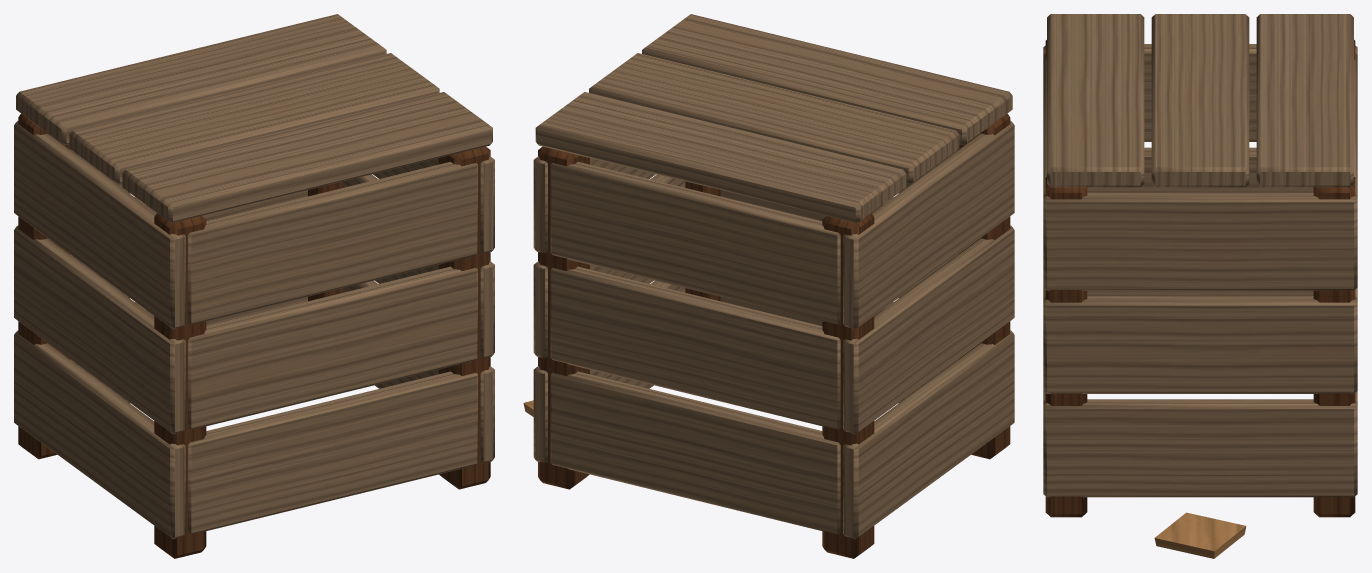
File: tavern-stool-crate.glb
3 renders of one model, left to right at view 1: azimuth 30°, elevation 25°; view 2: azimuth 150°, elevation 25°; view 3: azimuth 270°, elevation 25°, orthographic.
Parts seen in each view (by area): view 1: tavern_crate_seat; view 2: tavern_crate_seat; view 3: tavern_crate_seat.
Boxes of the visible parts, x1,y1,x2,y2 form: tavern_crate_seat: (14,14,494,558); tavern_crate_seat: (523,14,1014,558); tavern_crate_seat: (1043,14,1357,558).
Bounding box in the file's own units: 0.4997 × 0.42 × 0.34.
3 materials, 3 textured.
